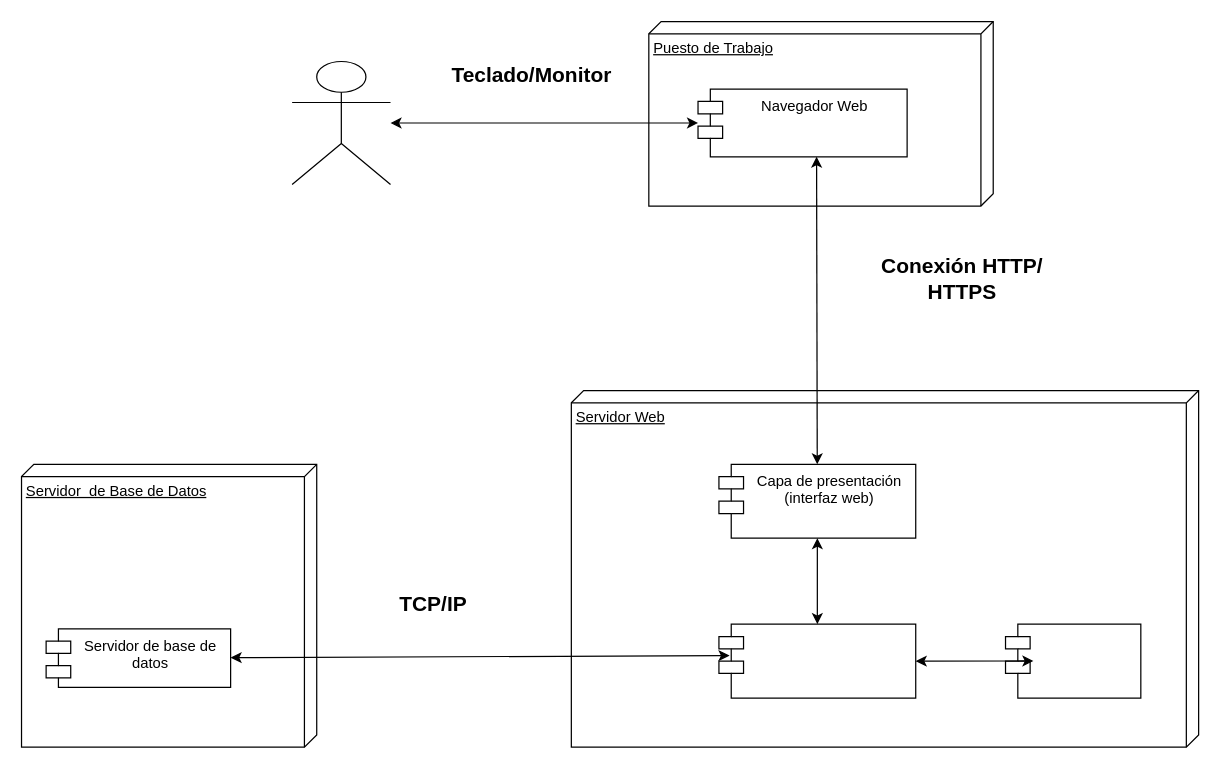
This 1220x769 diagram has some shape labels left out. The centre of each missing label's shape, as x and y in pixels:
"Actor" belongs at [341,122].
"Archivo de iniciar sesión" belongs at [1072,660].
"Interfaz de base de datos" belongs at [817,660].
